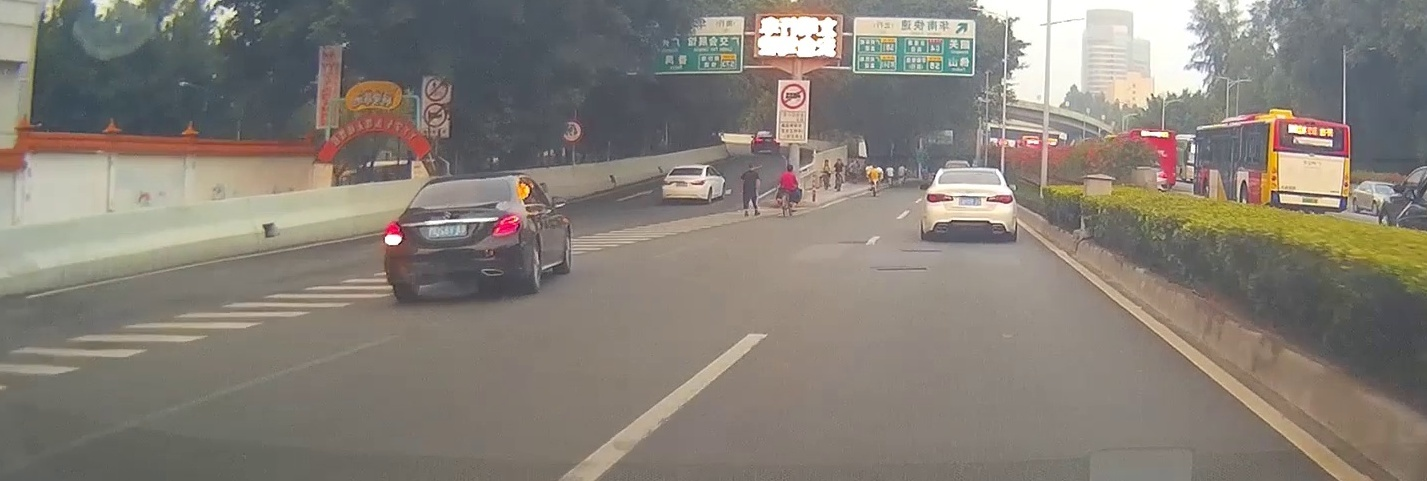L_light: (383, 221, 405, 246), (926, 193, 954, 203), (1269, 166, 1278, 190), (662, 180, 673, 187)
R_light: (491, 214, 521, 237), (986, 195, 1014, 204), (1342, 172, 1349, 196), (690, 178, 706, 185)
T_light: (452, 178, 479, 183), (1306, 143, 1321, 148), (963, 169, 977, 173), (683, 166, 694, 169)
day-left: (382, 174, 535, 300)
day-no: (1267, 117, 1351, 219), (922, 168, 1017, 241), (660, 165, 710, 205)
